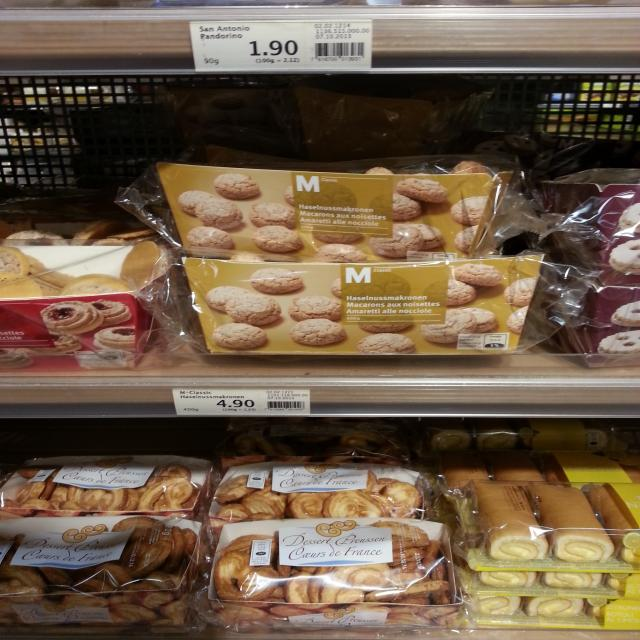Bakery: (157, 150, 511, 262), (165, 258, 542, 356), (194, 519, 469, 634), (0, 511, 214, 627), (0, 242, 172, 376), (452, 481, 640, 575), (2, 456, 219, 526), (207, 459, 440, 521)
